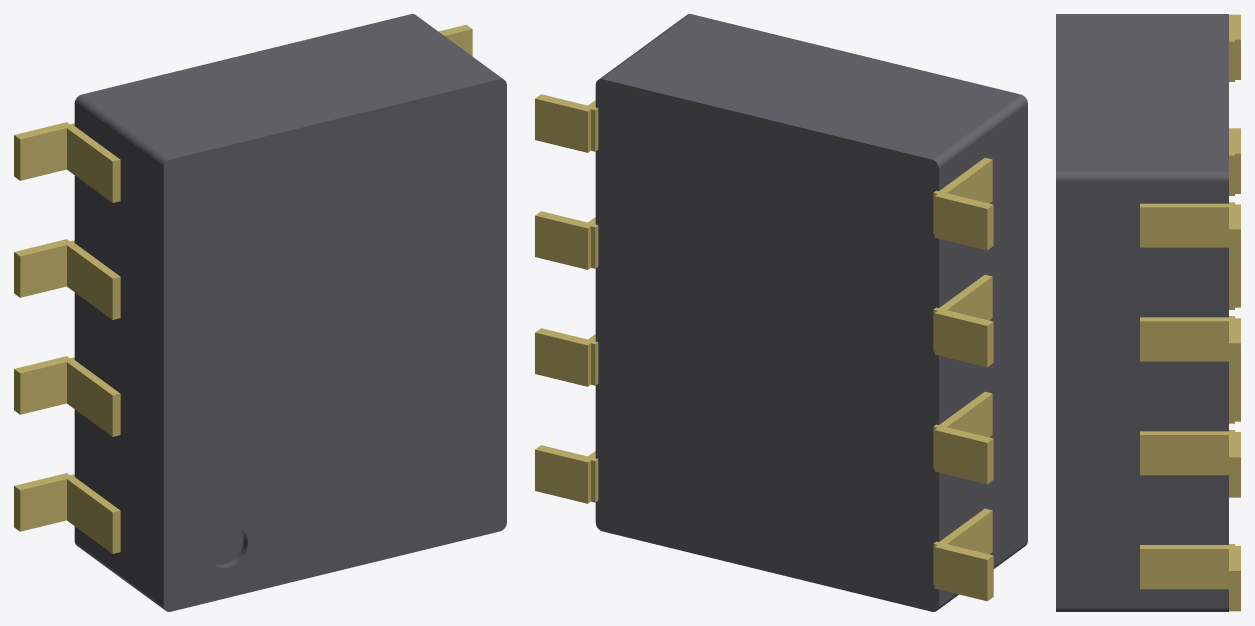
File: cern_opa2196id.glb
The picture shows the model from 3 angles, left to right: view 1: azimuth 30°, elevation 25°; view 2: azimuth 150°, elevation 25°; view 3: azimuth 270°, elevation 25°; orthographic projection. The views are drawn at different scales.
Visible parts, largest first — view 1: extra, pins; view 2: extra, pins; view 3: extra, pins.
Part boxes in pixels (left/top/right/bottom): extra: left=74, top=14, right=506, bottom=611; pins: left=14, top=24, right=472, bottom=553; extra: left=595, top=14, right=1027, bottom=611; pins: left=535, top=94, right=993, bottom=601; extra: left=1056, top=14, right=1228, bottom=611; pins: left=1140, top=14, right=1240, bottom=611.
Size of the model in its own units: 5.14 by 4.91 by 1.87.
